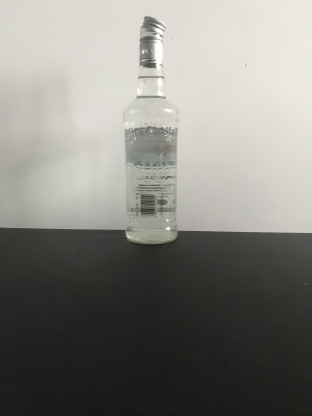nakretka: (138, 13, 167, 67)
